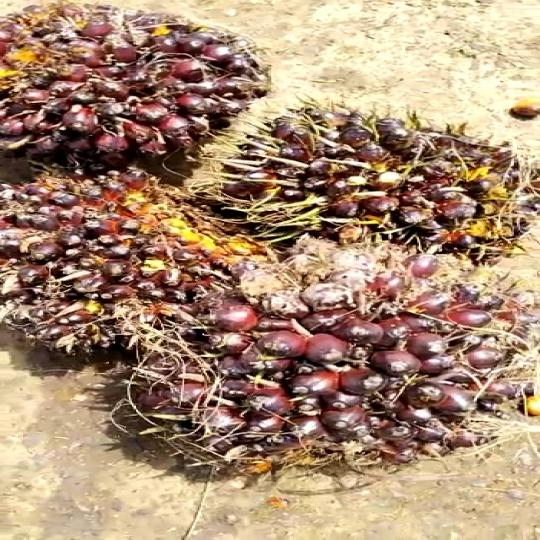kurang masak: (105, 236, 526, 478), (203, 105, 540, 270), (0, 166, 255, 356), (0, 0, 253, 164)
